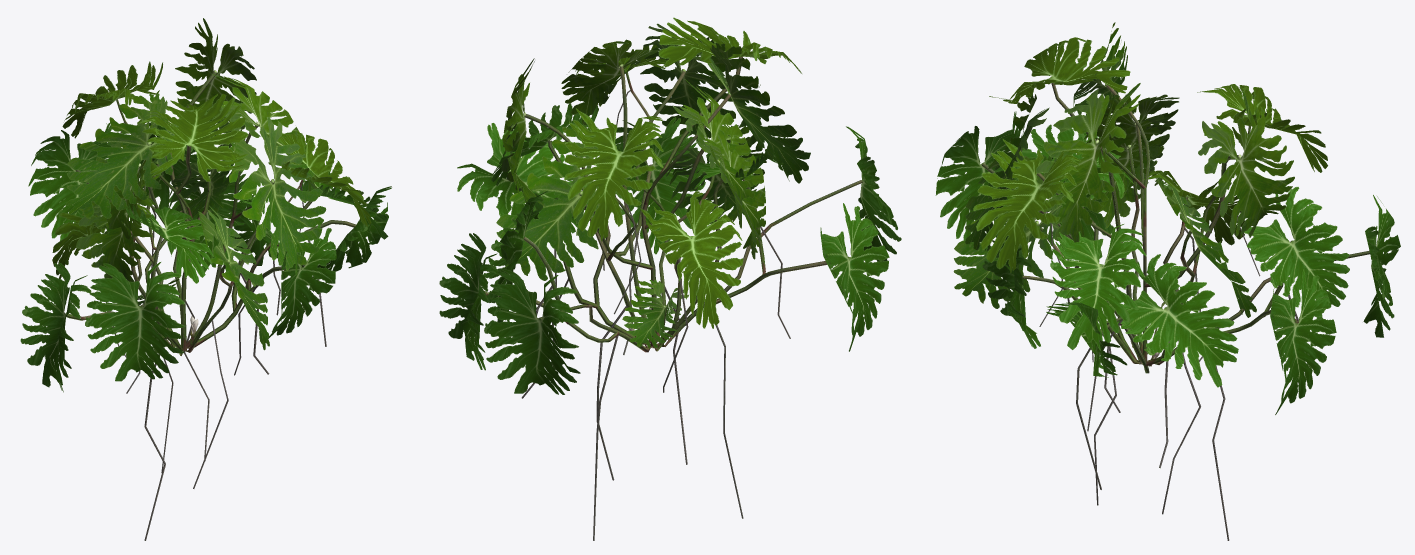
The model's file is PhilodendronSelloum.glb.
The picture shows the model from 3 angles, left to right: view 1: azimuth 30°, elevation 25°; view 2: azimuth 150°, elevation 25°; view 3: azimuth 270°, elevation 25°; orthographic projection. The views are drawn at different scales.
Parts seen in each view (by area): view 1: Lacy_Tree_Philodendron__Realistic_LOD3; view 2: Lacy_Tree_Philodendron__Realistic_LOD3; view 3: Lacy_Tree_Philodendron__Realistic_LOD3.
Boxes of the visible parts, left/top/right/bottom form: Lacy_Tree_Philodendron__Realistic_LOD3: left=20, top=18, right=391, bottom=540; Lacy_Tree_Philodendron__Realistic_LOD3: left=439, top=17, right=901, bottom=540; Lacy_Tree_Philodendron__Realistic_LOD3: left=935, top=22, right=1400, bottom=540.
Size of the model in its own units: 2.18 by 2.49 by 2.15.
Materials: 1 (1 with a texture image).
